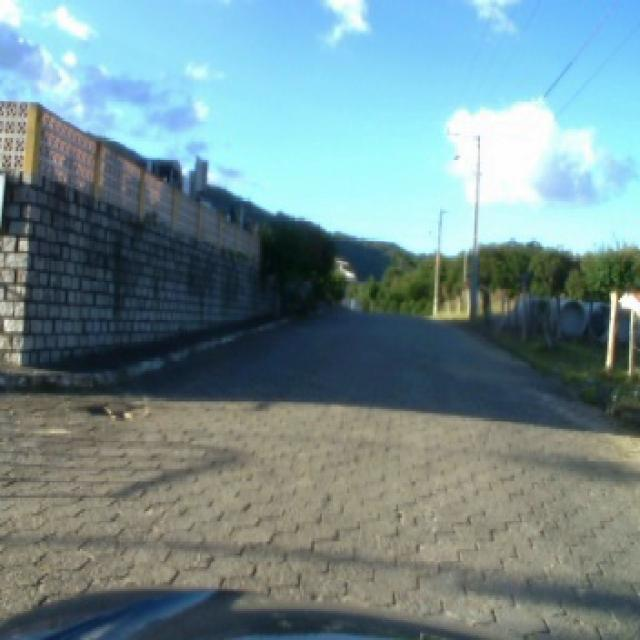Poth-hole: (74, 396, 146, 418)
